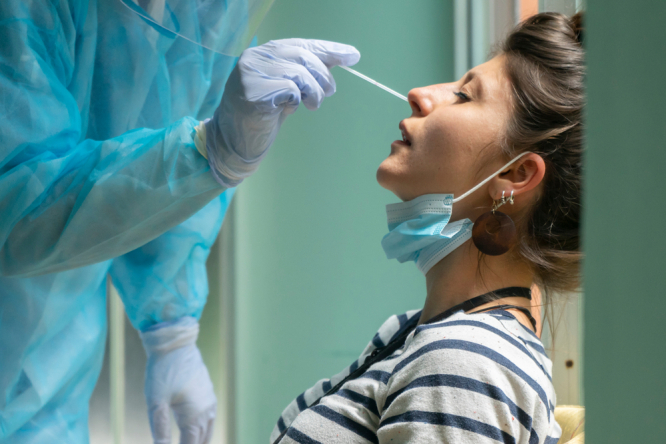without_mask: (377, 44, 572, 198)
